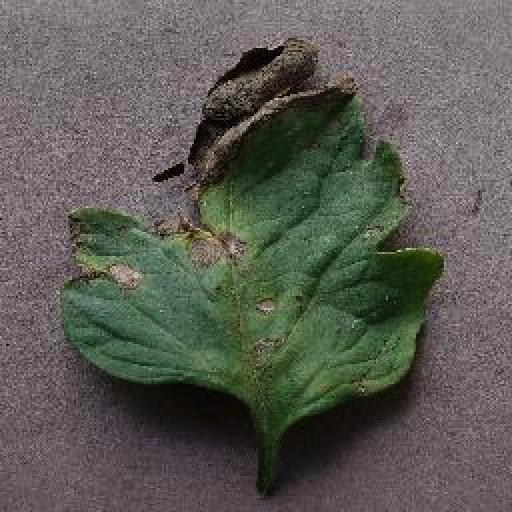disease_tomato: (54, 34, 450, 426)
